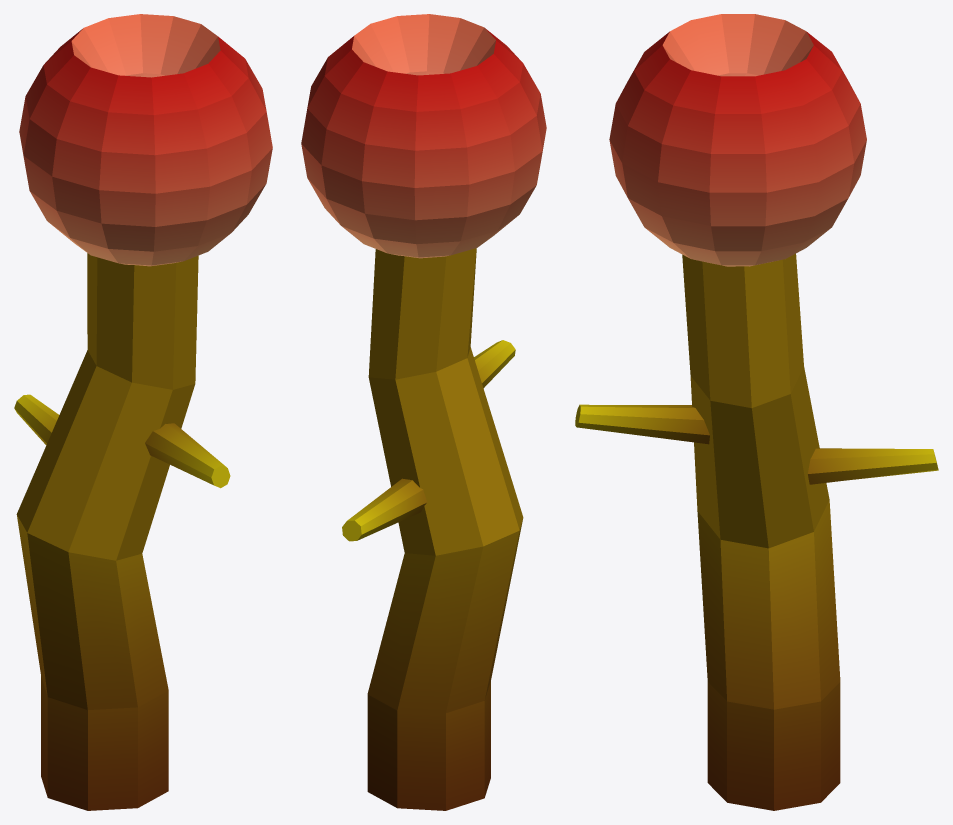
File: fleurLave.fbx
3 renders of one model, left to right at view 1: azimuth 30°, elevation 25°; view 2: azimuth 150°, elevation 25°; view 3: azimuth 270°, elevation 25°, orthographic. The views are drawn at different scales.
Visible parts, largest first — view 1: Cylinder, Sphere, Cylinder.002, Cylinder.001; view 2: Cylinder, Sphere, Cylinder.001, Cylinder.002; view 3: Cylinder, Sphere, Cylinder.002, Cylinder.001.
Part boxes in pixels (<box>): Cylinder: <box>16,253,198,810</box>; Sphere: <box>19,14,272,266</box>; Cylinder.002: <box>145,423,230,488</box>; Cylinder.001: <box>14,394,59,444</box>; Cylinder: <box>367,248,523,810</box>; Sphere: <box>301,14,546,258</box>; Cylinder.001: <box>342,478,427,541</box>; Cylinder.002: <box>474,340,515,388</box>; Cylinder: <box>682,253,840,810</box>; Sphere: <box>609,14,866,266</box>; Cylinder.002: <box>575,404,709,444</box>; Cylinder.001: <box>807,448,938,484</box>.
Bounding box in the file's own units: 43.32 × 142 × 62.53.
4 materials, 4 textured.
